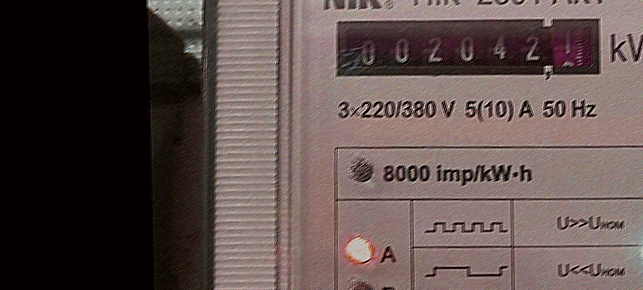0: (358, 36, 377, 67), (457, 33, 476, 64), (392, 35, 410, 66)
1: (559, 26, 573, 57)
2: (425, 35, 444, 64), (523, 33, 540, 62)
4: (490, 30, 509, 63)
screen: (330, 11, 606, 89)
